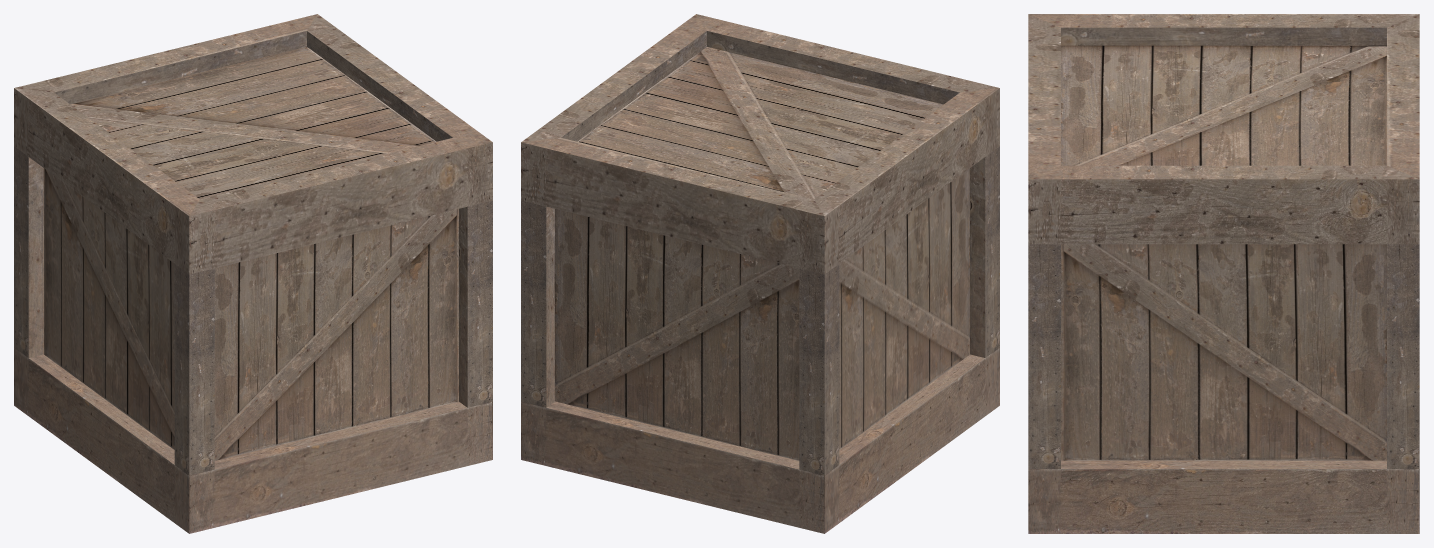
Rendered from crate_wood.fbx.
3 renders of one model, left to right at view 1: azimuth 30°, elevation 25°; view 2: azimuth 150°, elevation 25°; view 3: azimuth 270°, elevation 25°, orthographic. The views are drawn at different scales.
Parts seen in each view (by area): view 1: crate; view 2: crate; view 3: crate.
Part boxes in pixels (x1,y1,x2,y2): crate: (14, 14, 492, 533); crate: (521, 14, 999, 533); crate: (1028, 14, 1419, 533).
Size of what is drawn, in the model's own units: 0.315 by 0.315 by 0.315.
